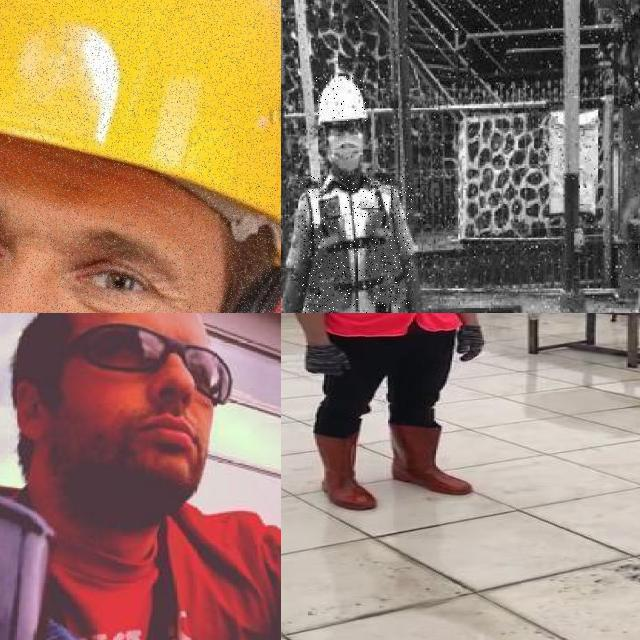No_Glasses: (0, 168, 175, 313)
boots: (301, 428, 379, 512), (397, 420, 471, 494)
face_nomask: (83, 321, 220, 460)
glasses: (51, 326, 239, 407)
hand_glove: (451, 324, 496, 365), (312, 344, 347, 376)
head_helmet: (0, 0, 281, 202), (315, 74, 367, 122)
person: (281, 313, 482, 515), (281, 66, 443, 313)
vest: (302, 176, 413, 313)
